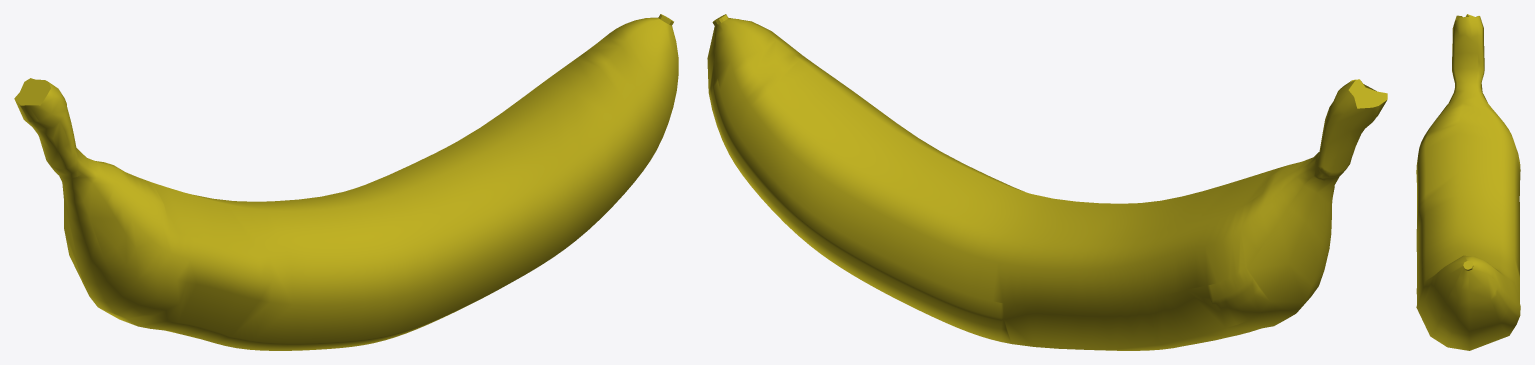
The model's file is Banana12.fbx.
3 views of the same model, side by side, from view 1: azimuth 30°, elevation 25°; view 2: azimuth 150°, elevation 25°; view 3: azimuth 270°, elevation 25° (orthographic). The views are drawn at different scales.
Parts seen in each view (by area): view 1: loftedSurface1; view 2: loftedSurface1; view 3: loftedSurface1.
Boxes of the visible parts, <box> form: loftedSurface1: <box>14,14,678,350</box>; loftedSurface1: <box>707,14,1387,350</box>; loftedSurface1: <box>1416,14,1520,350</box>.
Size of the model in its own units: 4.19 by 2.04 by 0.9076.
